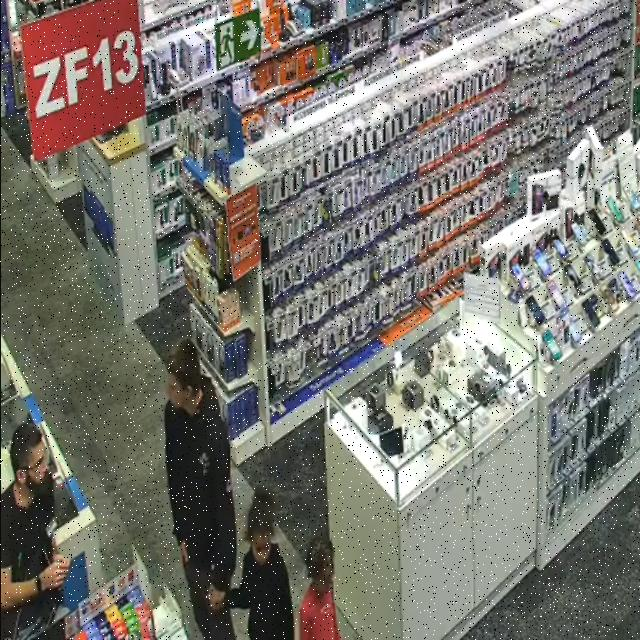hands: (40, 563, 68, 590), (208, 586, 225, 610), (54, 555, 70, 571), (180, 542, 188, 564)
person: (165, 339, 236, 639), (1, 424, 69, 638), (225, 490, 294, 639), (300, 538, 341, 639)
